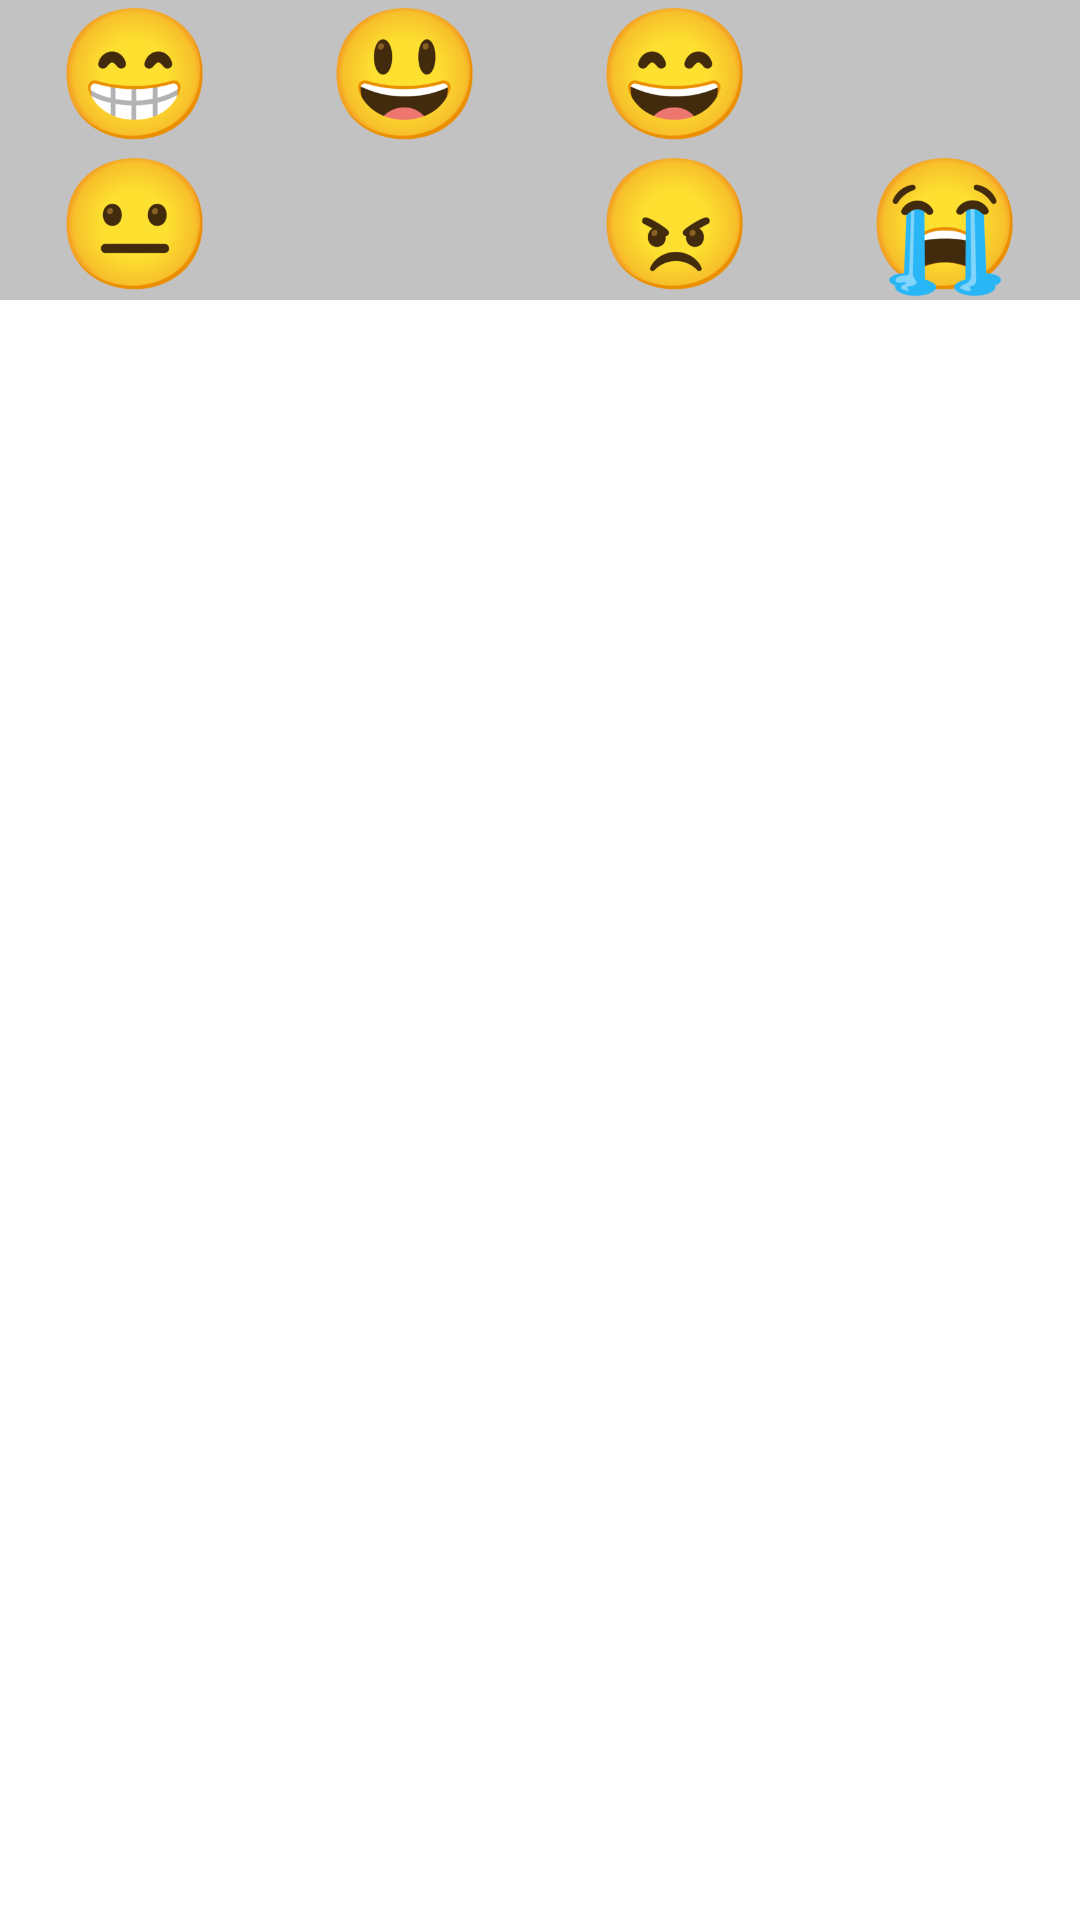

Icon bounding boxes for this 1080px x 1920px phone screenshot, format (x1, y1, x2, y2):
emotion: (66, 8, 203, 140), (336, 8, 473, 140), (606, 8, 743, 140), (66, 158, 203, 290), (606, 158, 743, 290), (876, 158, 1013, 296)
